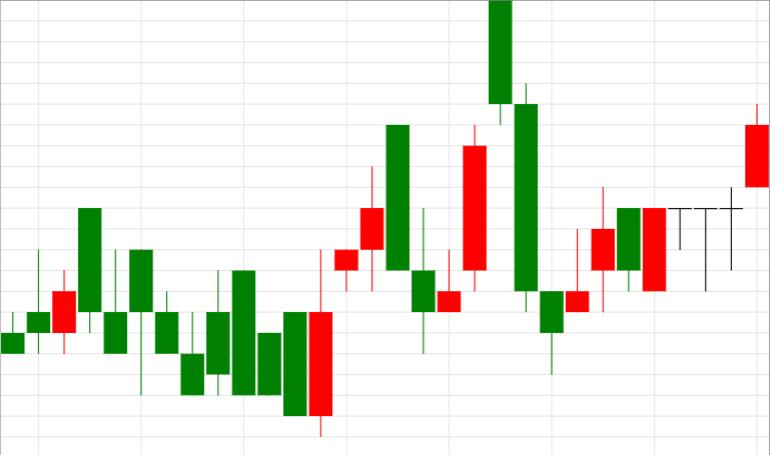three_black_crows_fall: (437, 0, 563, 374)
